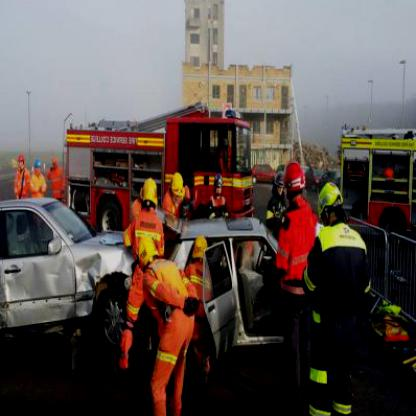car: (1, 197, 137, 375), (164, 212, 278, 361), (251, 164, 276, 184), (319, 170, 339, 194), (306, 167, 322, 190)
